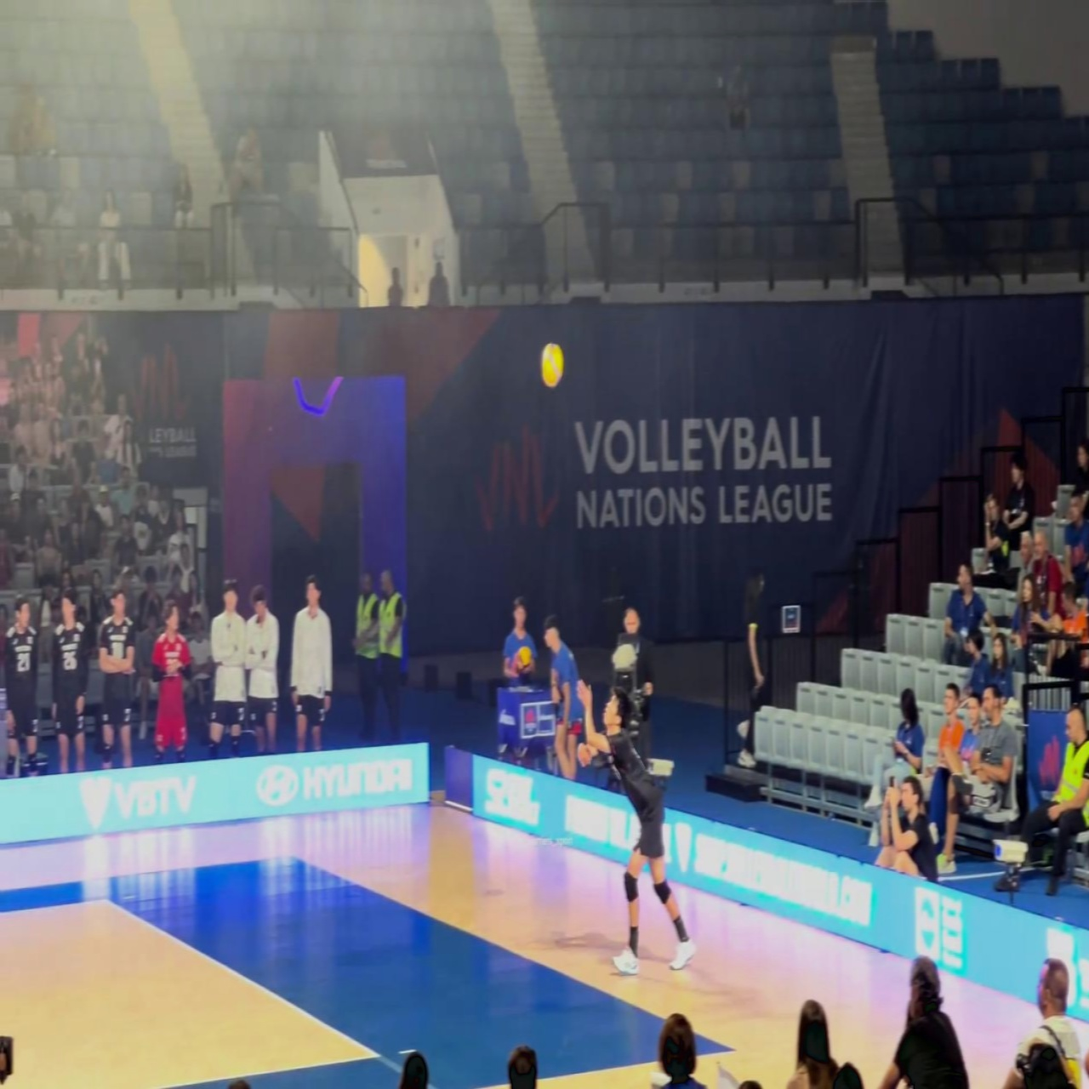ball: (540, 344, 562, 386)
